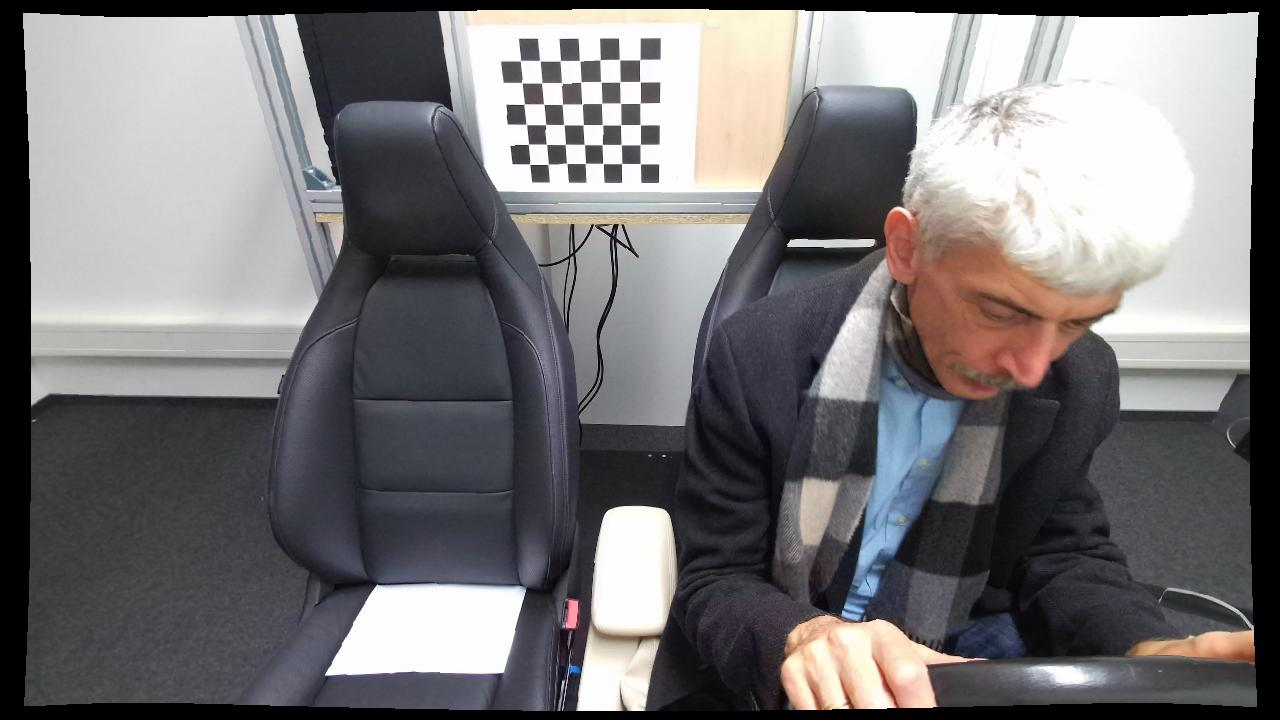Distracted: (673, 71, 1201, 716)
